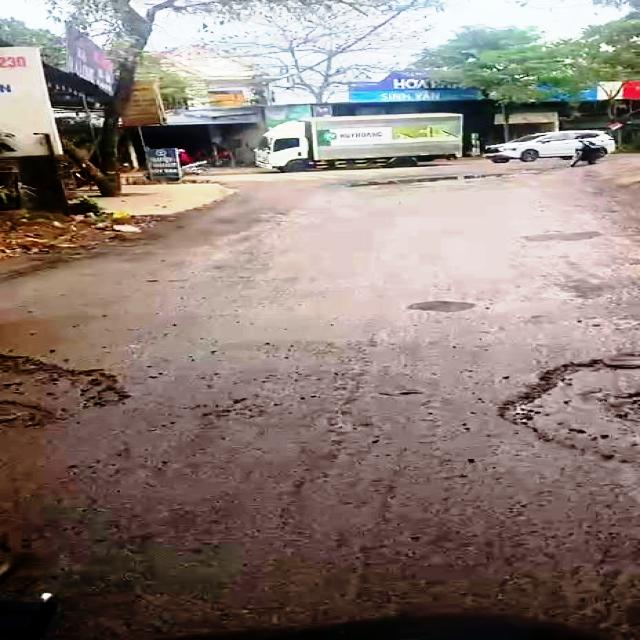pothole: (491, 344, 640, 464), (0, 348, 138, 422)
